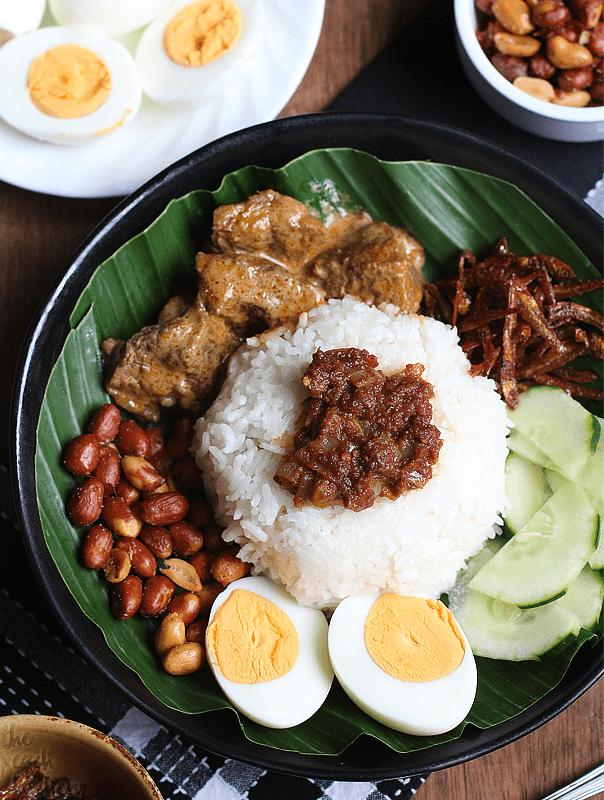Anchovies: (426, 237, 604, 410)
Boiled-Egg: (205, 576, 478, 742), (0, 0, 258, 145)
Cucumber: (442, 390, 604, 663)
Peanuts: (60, 406, 249, 677), (476, 0, 604, 105)
Rendang-Chicken: (105, 198, 422, 497)
Rice: (198, 303, 507, 614)
Sambal: (277, 349, 441, 509)
